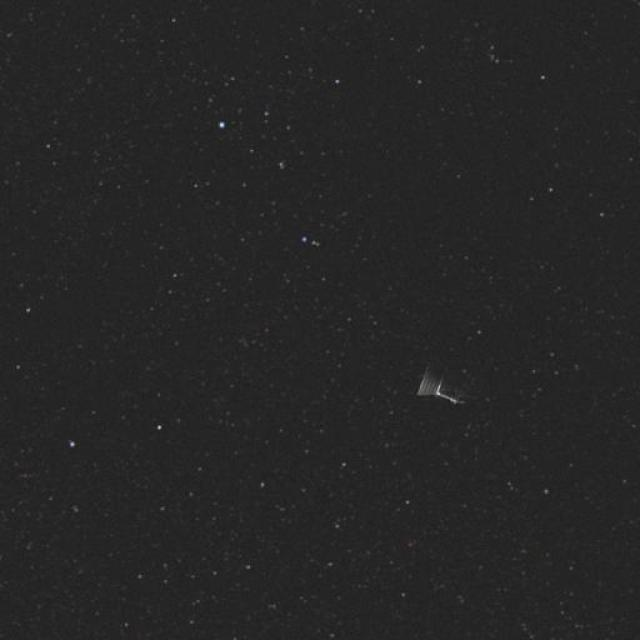debris: (391, 353, 482, 417)
